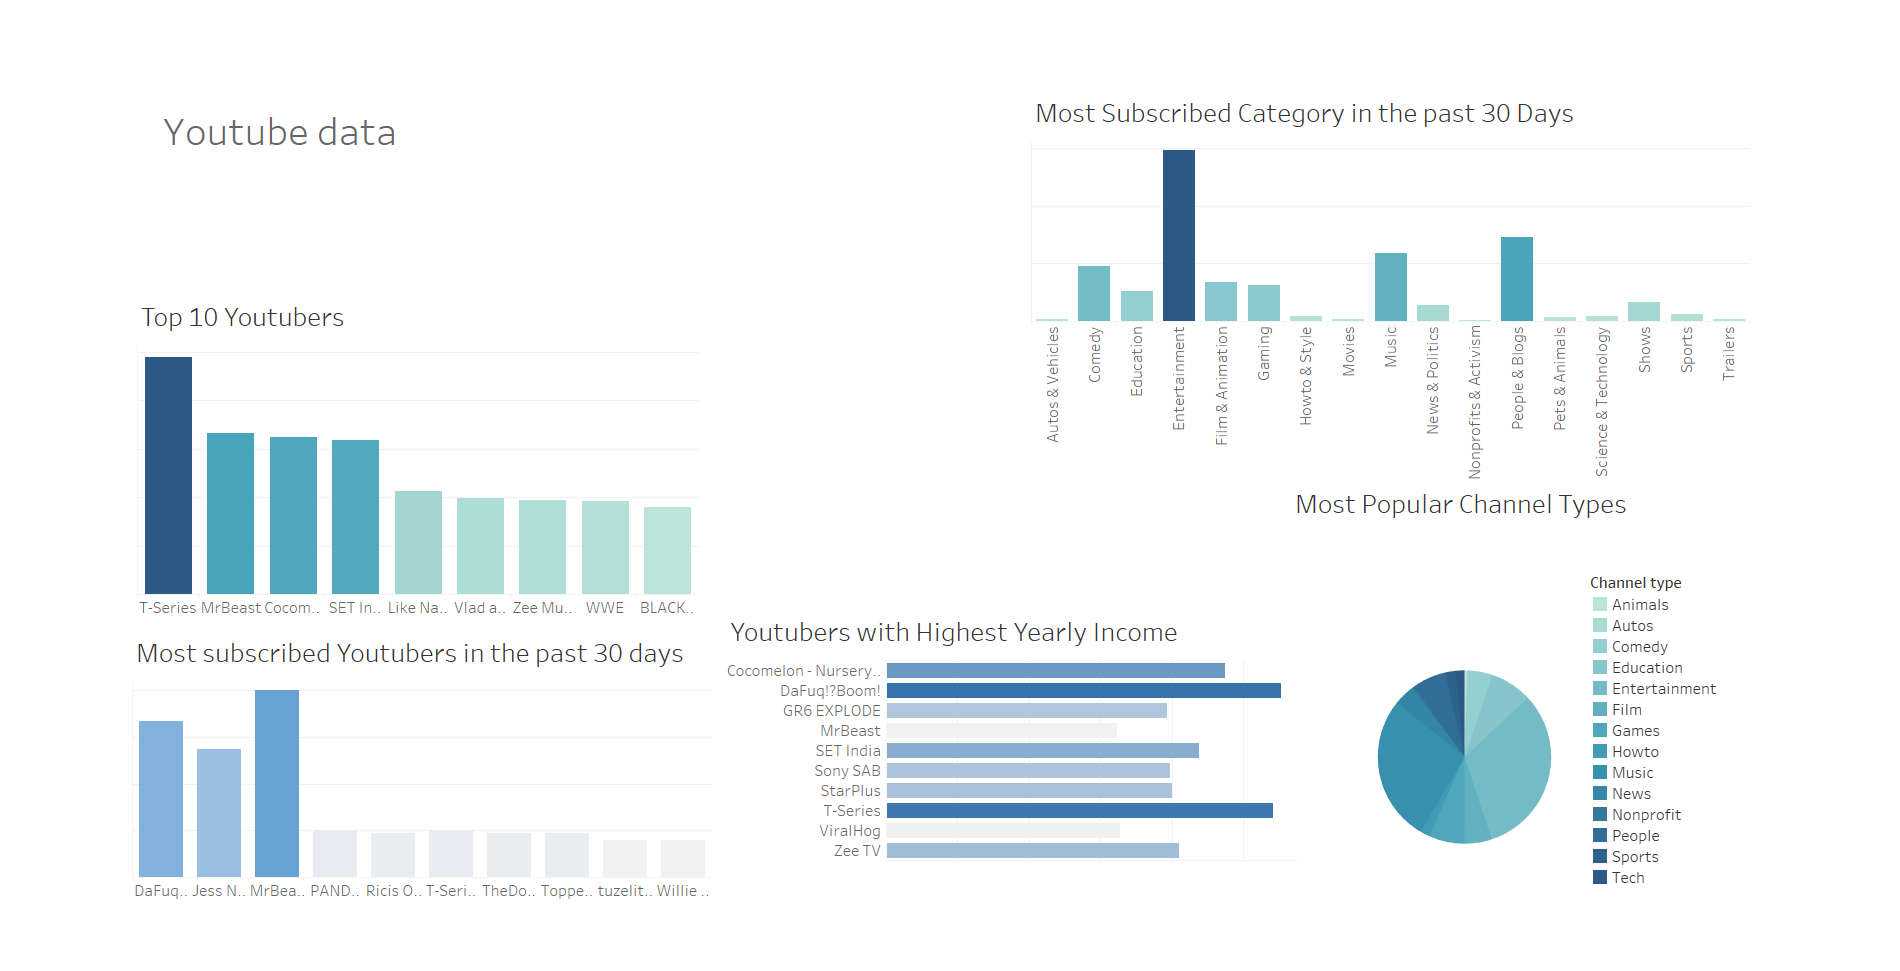

The page's visual inventory and layout, read from the dashboard file:
{"tool":"tableau","page":{"name":"Dashboard 1","canvas":[1000,1000],"units":"permille","ordinal":0},"visuals":[{"type":"text","box":[17.3,16.2,202.5,123.4]},{"type":"worksheet","title":"Sheet 5","mark":"Automatic","rows":["Subscribers_for_last_30_days"],"cols":["Category"],"box":[555.6,32.4,443.8,453.9]},{"type":"worksheet","title":"Sheet 1","mark":"Bar","rows":["Subscribers"],"cols":["Youtuber"],"box":[3.7,269.3,346.9,394]},{"type":"legend","title":"Sheet 4","param":"[federated.1dzio3t0su22ta19ajcwn1rbnyu7].[none:Channel_type:nk]","box":[900.6,592.3,86.4,394]},{"type":"worksheet","title":"Sheet 9","mark":"Automatic","rows":["Youtuber"],"cols":["Highest_yearly_earnings"],"box":[367.3,635.9,354.9,355.4]},{"type":"worksheet","title":"Sheet 2","mark":"Bar","rows":["Subscribers_for_last_30_days"],"cols":["Youtuber"],"box":[0.6,660.9,358,332.9]}]}

Visuals, with their boxes on the dashboard's canvas, which has no fixed pixel size, in thousandths of its width and height (x1, y1, x2, y2). These are canvas units, not pixel positions in the 1900x971 screenshot, which may show the page scaled, cropped or inside an application window:
text: l=17, t=16, r=220, b=140
"Sheet 5" worksheet: l=556, t=32, r=999, b=486
"Sheet 1" worksheet (Bar marks): l=4, t=269, r=351, b=663
"Sheet 4" legend: l=901, t=592, r=987, b=986
"Sheet 9" worksheet: l=367, t=636, r=722, b=991
"Sheet 2" worksheet (Bar marks): l=1, t=661, r=359, b=994
